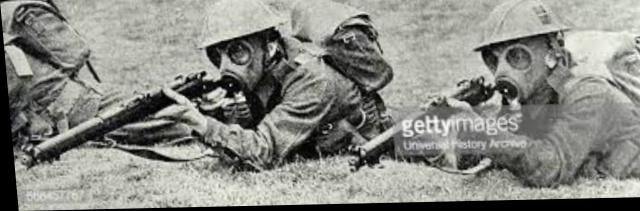other: (431, 9, 640, 184), (182, 0, 399, 164), (2, 1, 122, 149)
